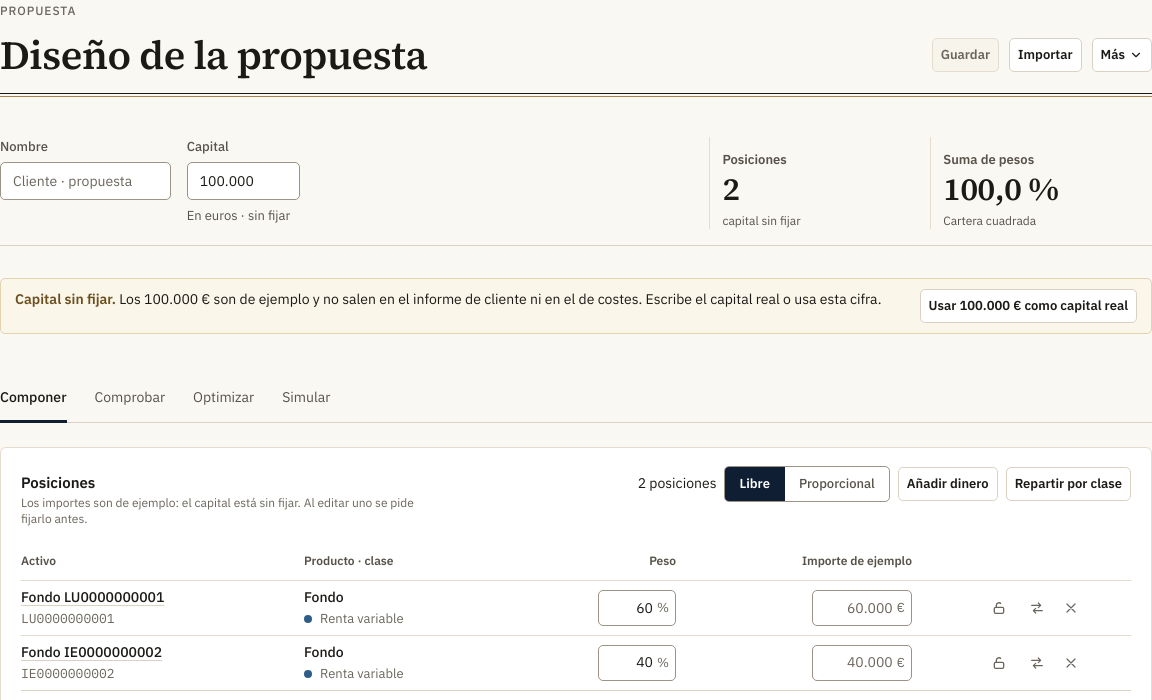
Test case: empezar una cartera (hallazgo 144 y decisión 15) › el botón abre lo mismo en un diálogo, que dice lo que va a pasar
Click the button "Importar". click: point(1045, 55)
box: [1009,38,1082,72]
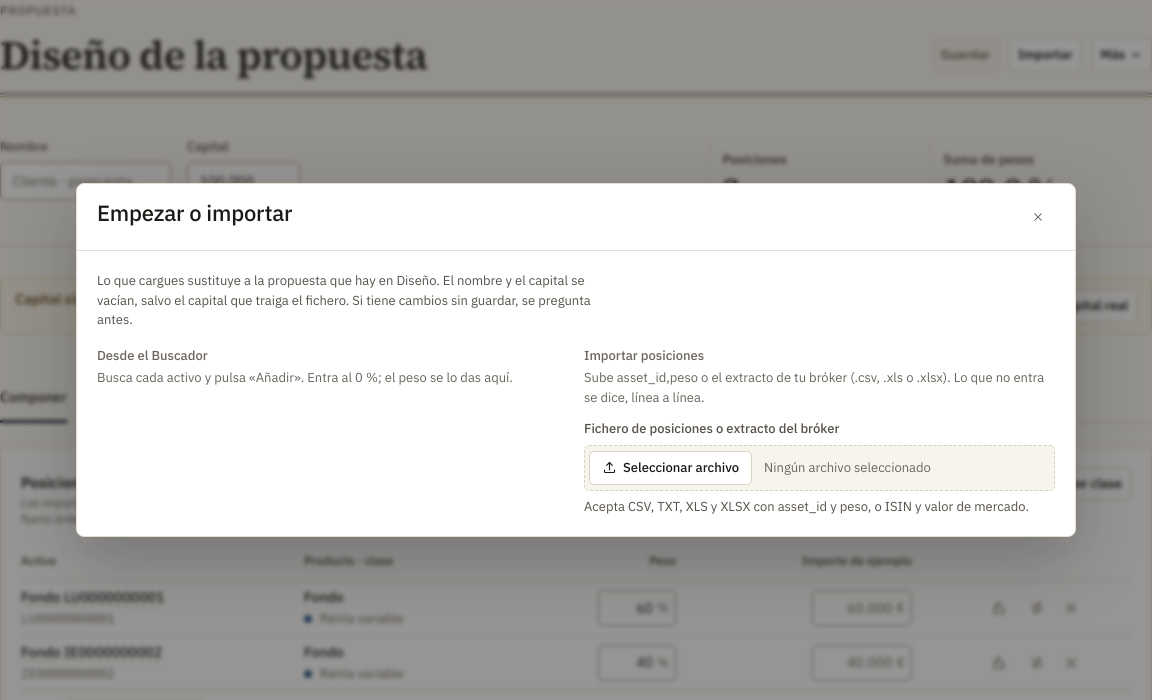
Expected: the heading "Empezar o importar" is shown, [97,198,292,227]
Expected: the element that starts with "Desde el Buscador" is shown, [97,346,1055,516]
Expected: the dialog shows "sustituye a la propuesta que hay en Diseño", [97,272,591,328]
Click the button named "Cerrar". click: point(1038, 217)
box: [1021,200,1055,234]
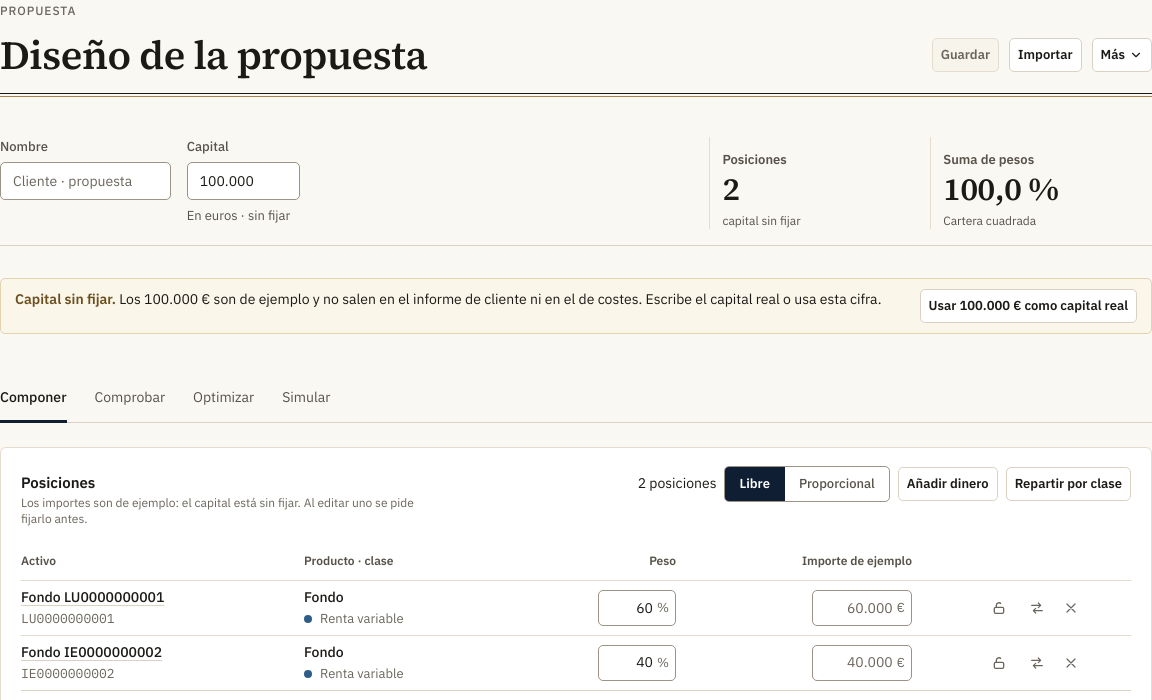
Expected: the dialog is gone
